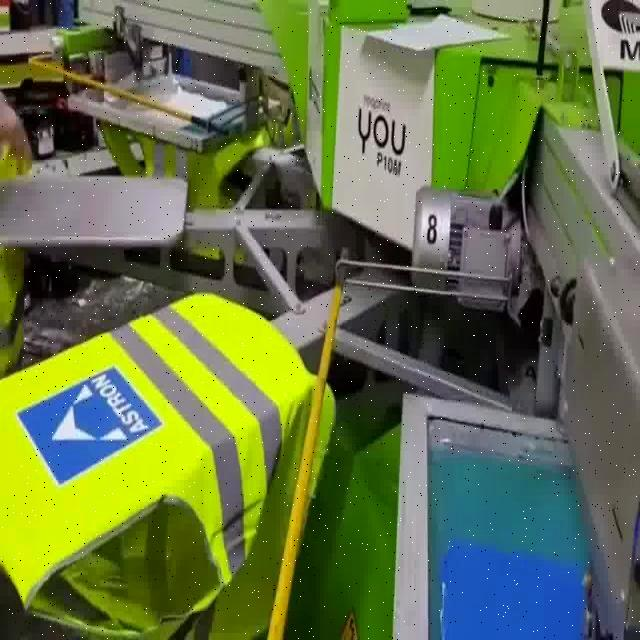Vest: (2, 307, 339, 635)
